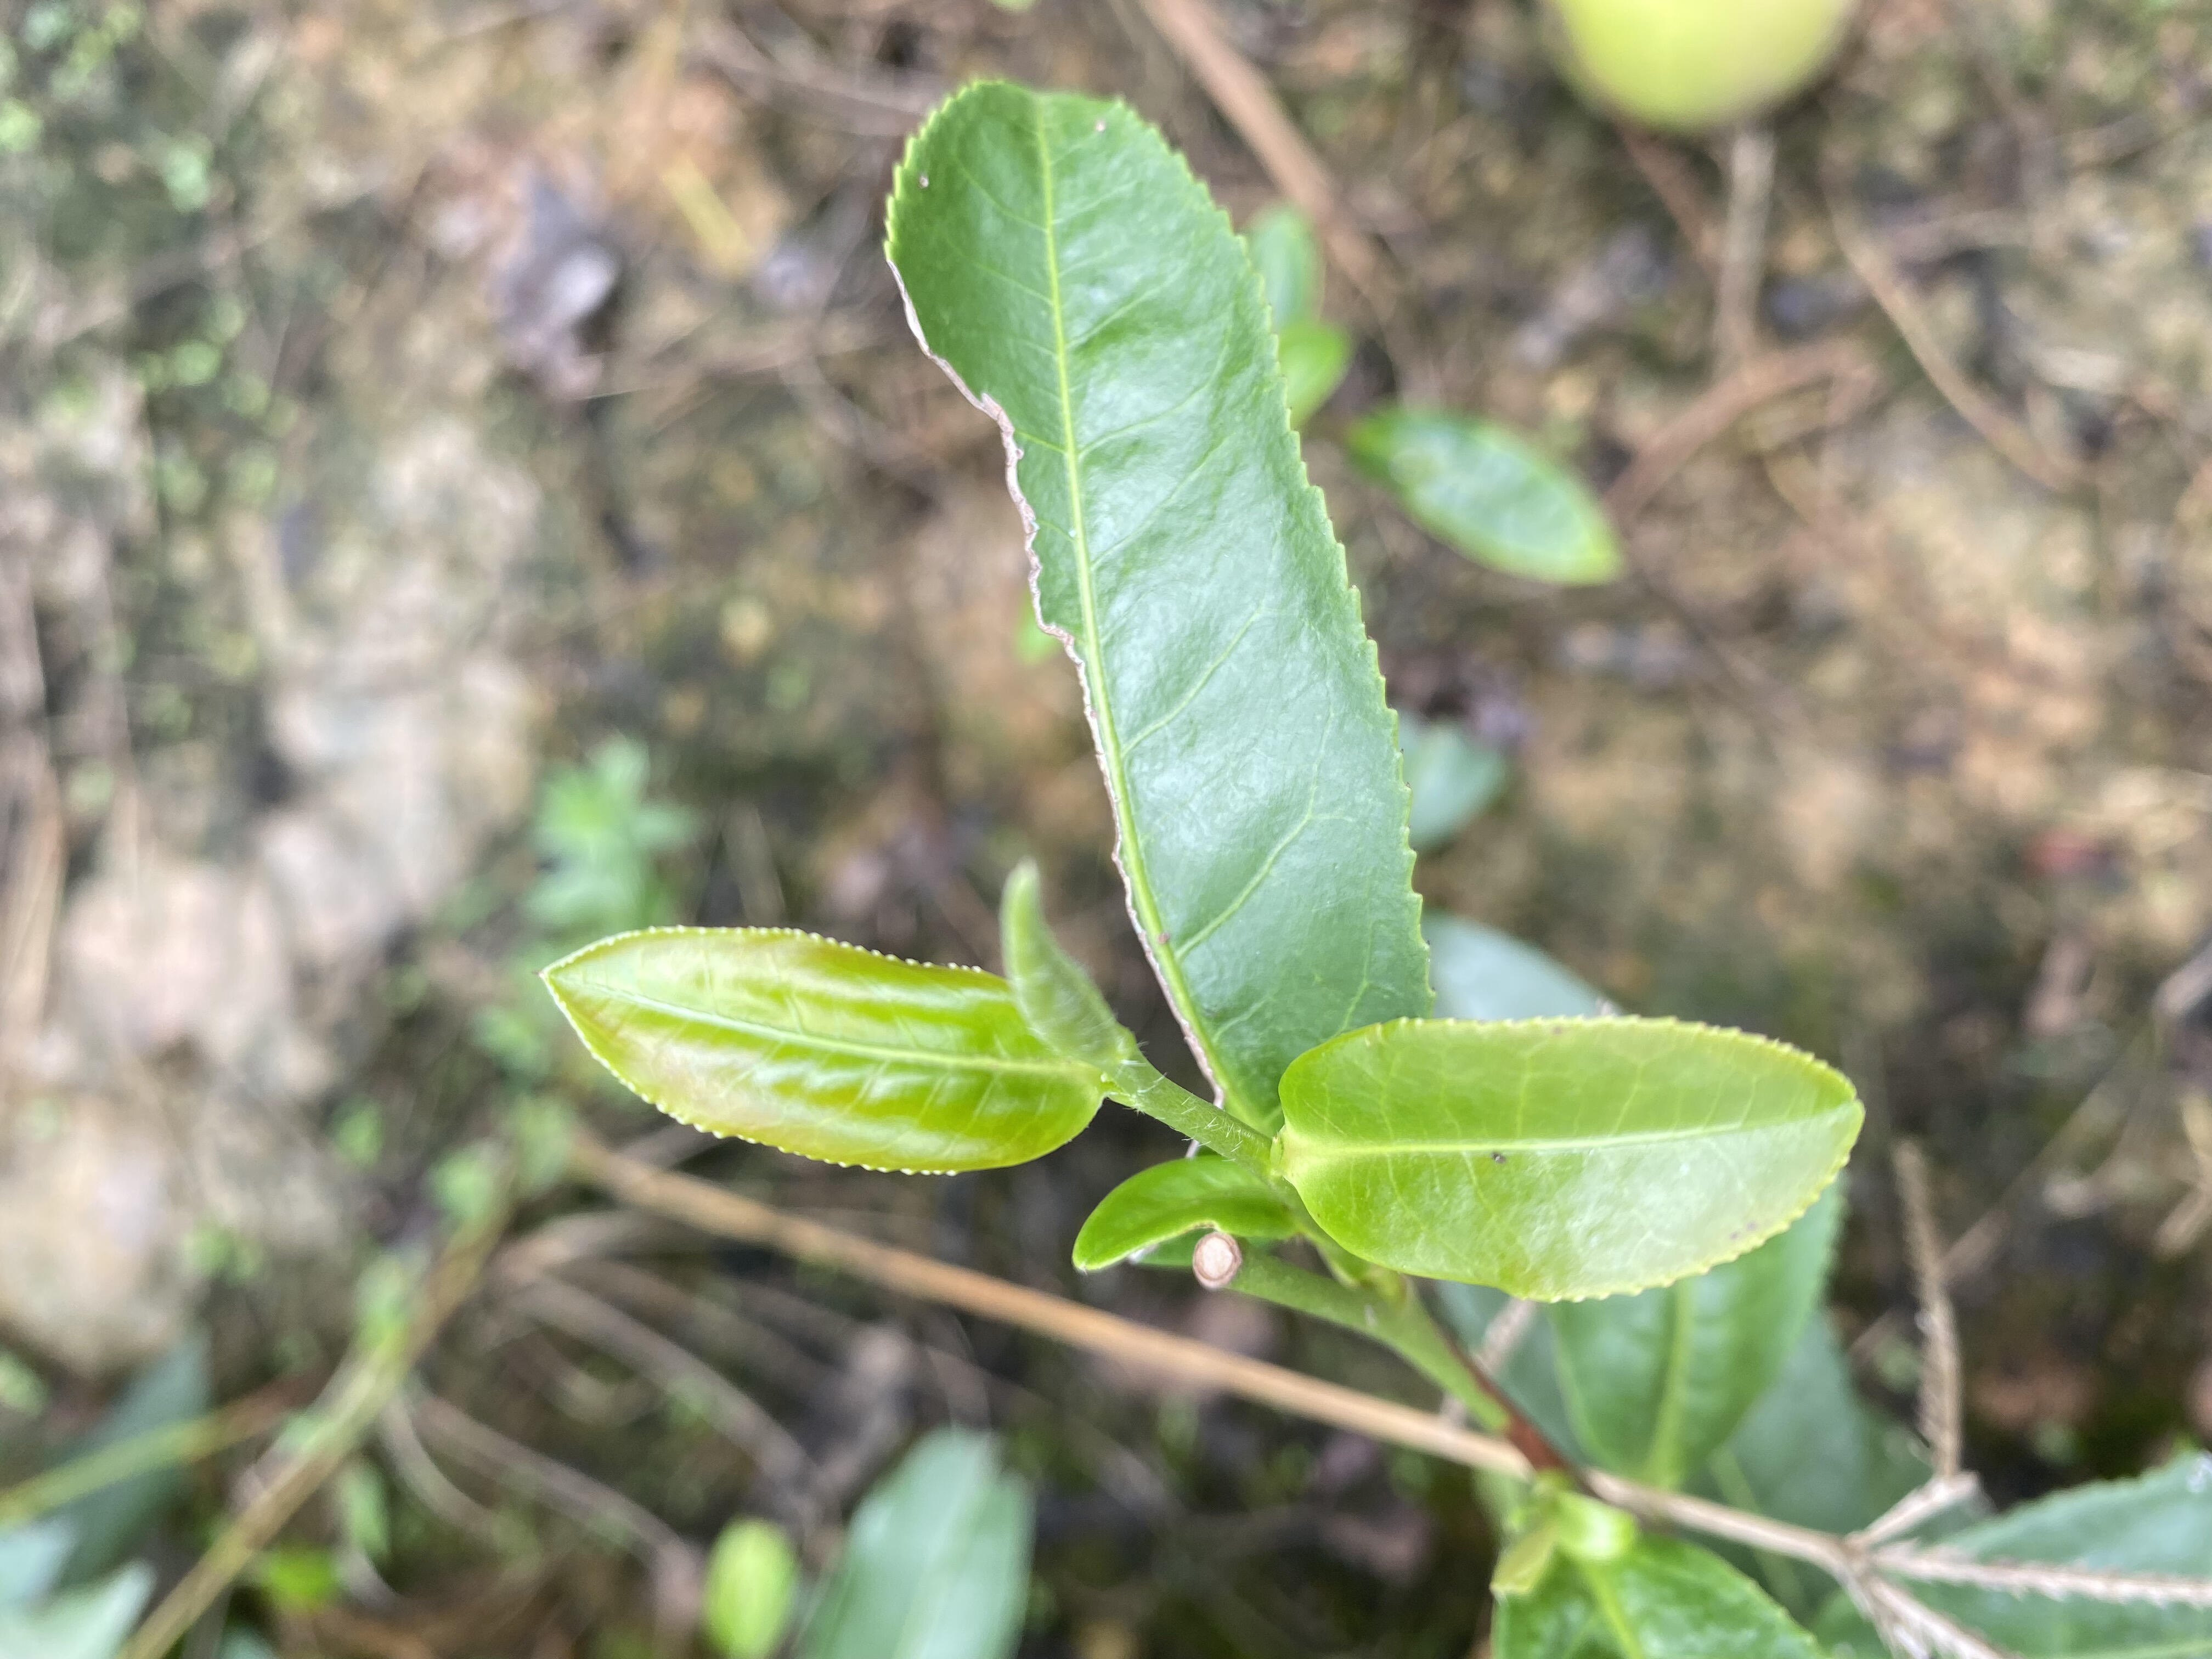chihuo_high: (855, 80, 1442, 1098)
tanju_low: (1273, 1014, 1867, 1304), (542, 924, 1106, 1180)
